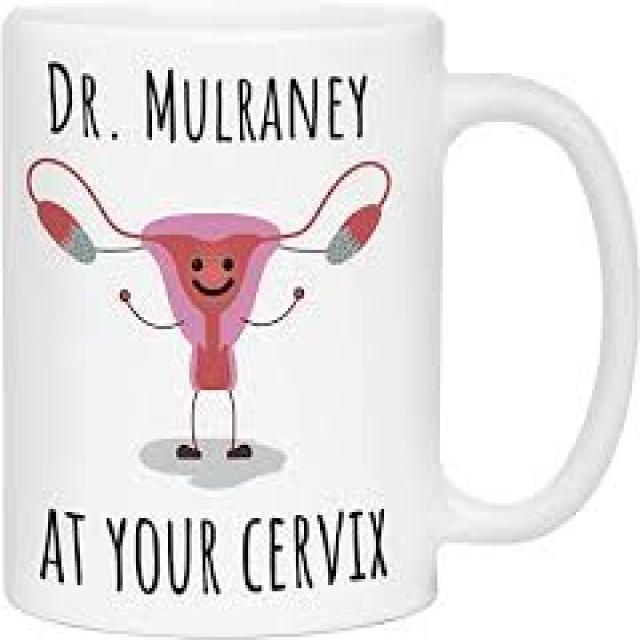taza: (10, 1, 640, 638)
